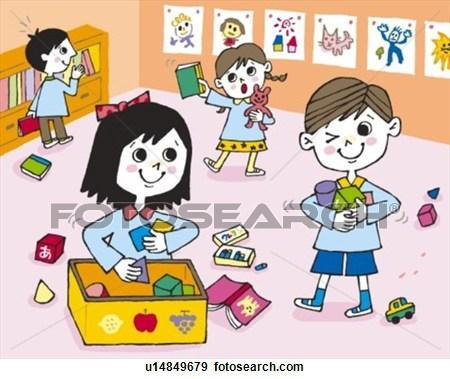car: (383, 295, 418, 323)
person: (293, 72, 410, 315), (81, 92, 199, 283), (193, 37, 276, 177), (19, 23, 86, 149)
